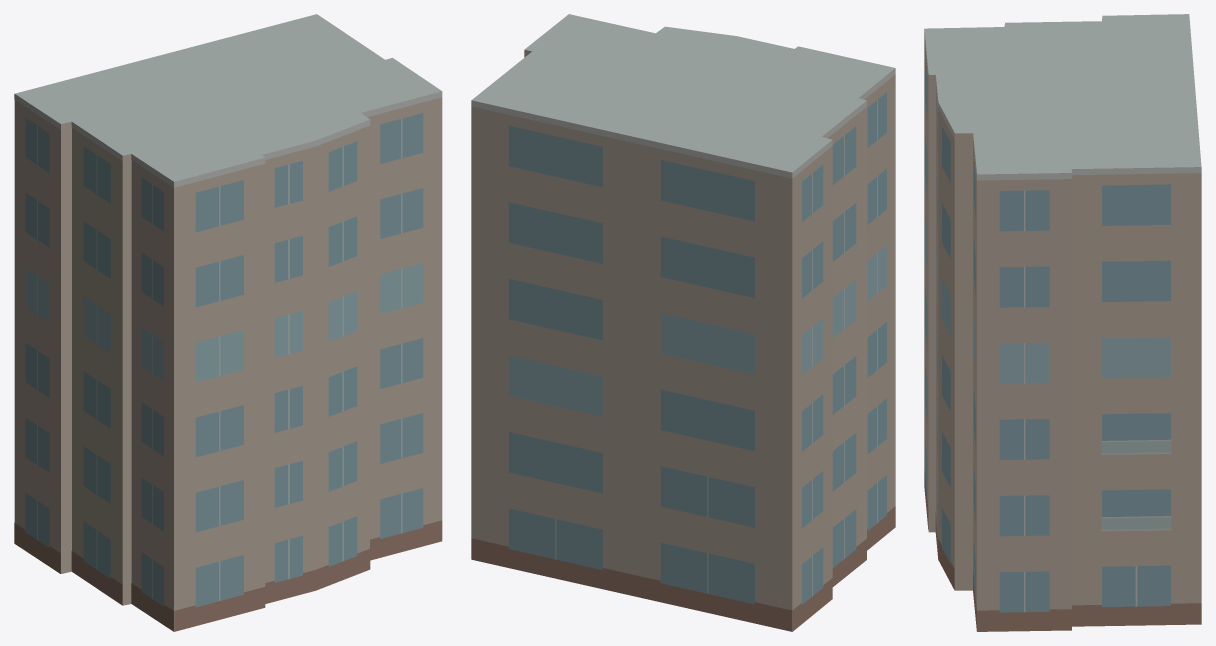
Rendered from survey-upis-32634491.glb.
3 renders of one model, left to right at view 1: azimuth 30°, elevation 25°; view 2: azimuth 150°, elevation 25°; view 3: azimuth 270°, elevation 25°, orthographic. The views are drawn at different scales.
Parts seen in each view (by area): view 1: survey-upis-32634491.tmp; view 2: survey-upis-32634491.tmp; view 3: survey-upis-32634491.tmp.
Boxes of the visible parts, x1,y1,x2,y2 form: survey-upis-32634491.tmp: (14,14,442,631); survey-upis-32634491.tmp: (471,14,895,631); survey-upis-32634491.tmp: (924,14,1201,631).
Bounding box in the file's own units: 13.85 × 18.4 × 10.11.
